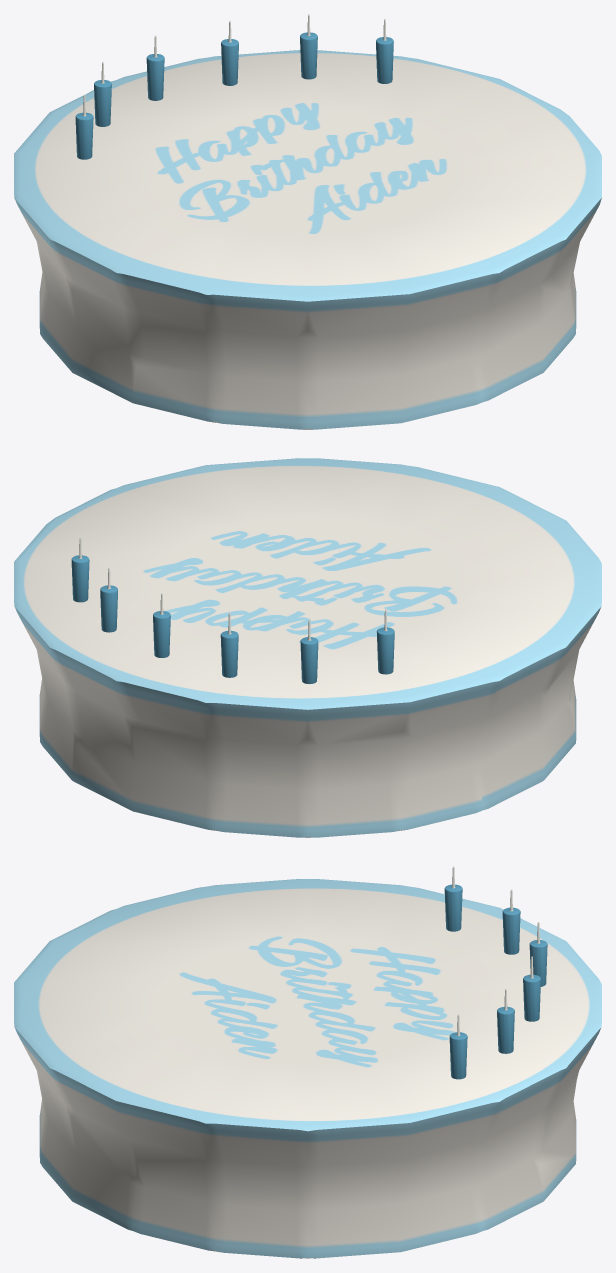
Rendered from Iced cake.fbx.
The picture shows the model from 3 angles, top to bottom: view 1: azimuth 30°, elevation 25°; view 2: azimuth 150°, elevation 25°; view 3: azimuth 270°, elevation 25°; orthographic projection.
Parts seen in each view (by area): view 1: finished cake, candle; view 2: finished cake, candle; view 3: finished cake, candle.
Part boxes in pixels (bbox=[...]): finished cake: bbox=[14, 50, 601, 429]; candle: bbox=[75, 14, 393, 159]; finished cake: bbox=[14, 458, 601, 837]; candle: bbox=[71, 537, 394, 683]; finished cake: bbox=[14, 879, 601, 1258]; candle: bbox=[444, 866, 547, 1079].
Size of the model in its own units: 38.91 by 14.84 by 38.39.
